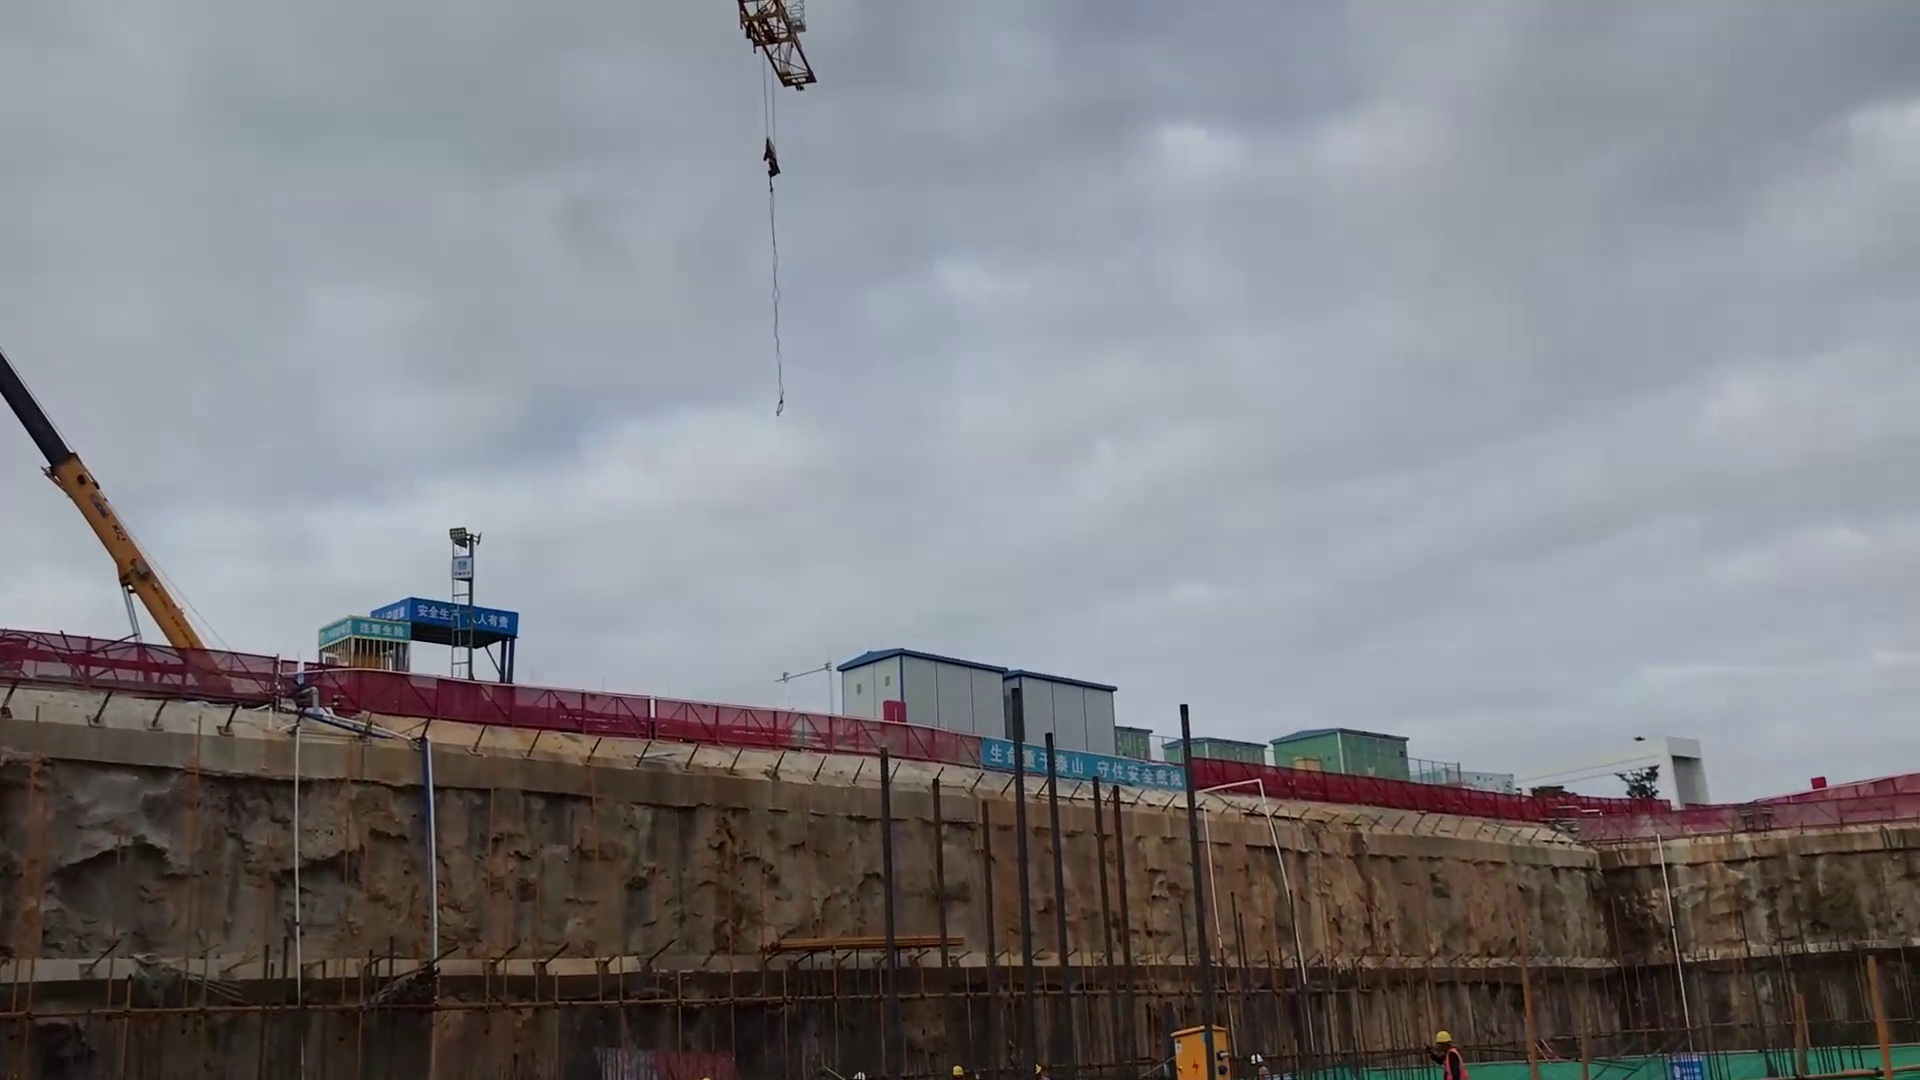ebox: (1159, 1027, 1235, 1080)
fence: (6, 625, 1577, 820), (1589, 789, 1920, 831)
helmet: (1436, 1026, 1454, 1048), (1252, 1048, 1265, 1063), (1031, 1059, 1043, 1075), (948, 1062, 964, 1074), (852, 1070, 866, 1080)
hook: (759, 129, 792, 182)
person: (1418, 1021, 1466, 1080), (1245, 1043, 1270, 1079)
slogan: (976, 732, 1187, 795), (418, 600, 518, 636), (1663, 1050, 1705, 1079)
vest: (1439, 1050, 1465, 1080)
